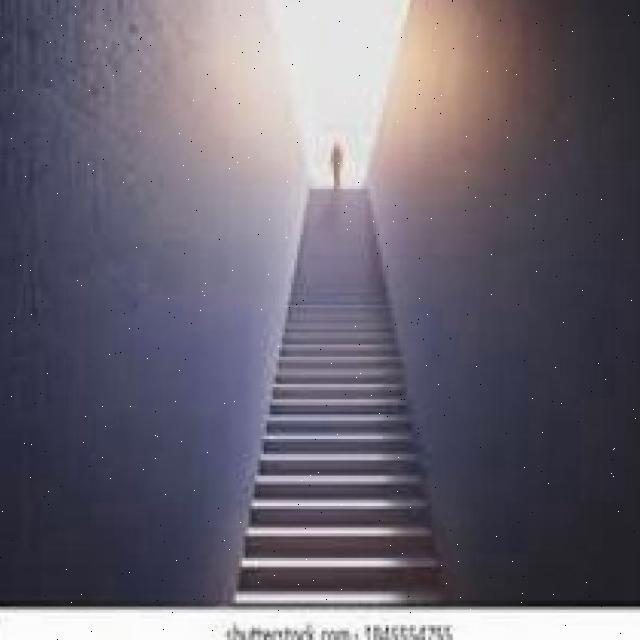stair: (200, 348, 477, 604)
